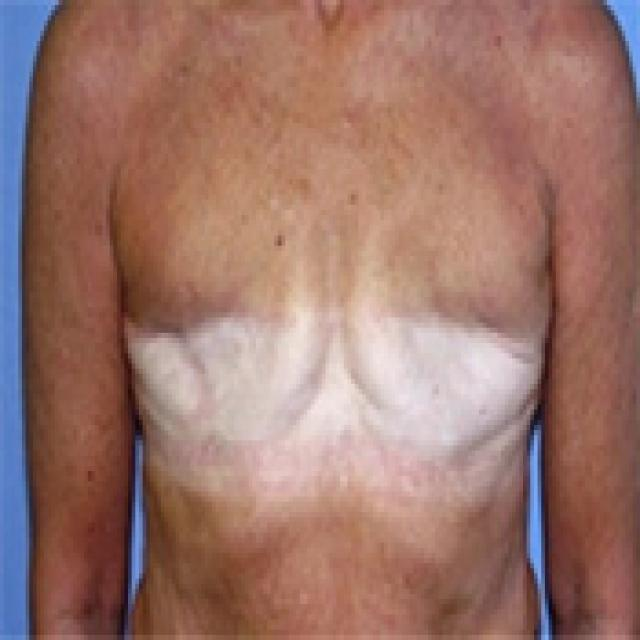Seno herido: (110, 174, 331, 456), (344, 177, 556, 462)
